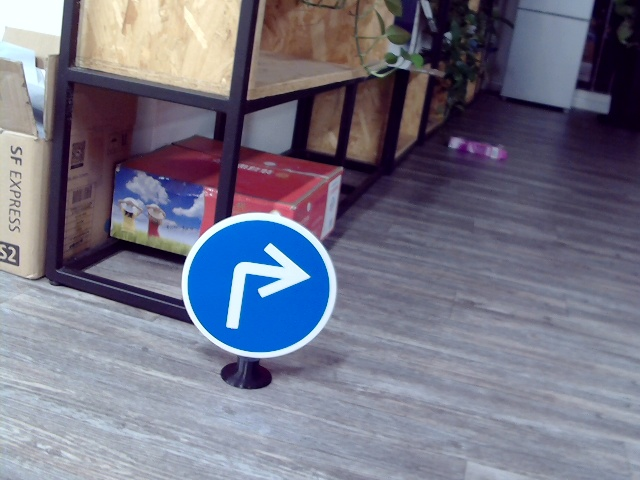turn_right: (214, 249, 312, 330)
